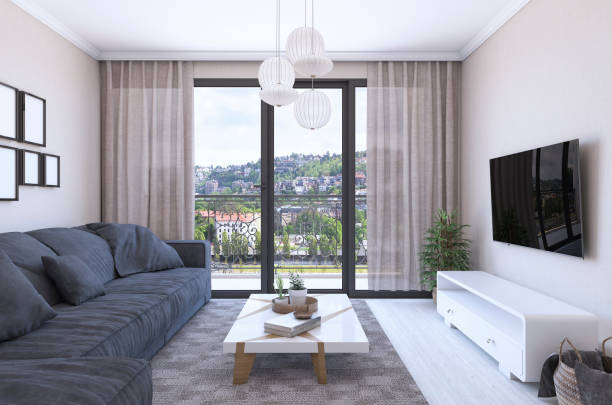TV: (488, 135, 588, 261)
TV stand: (432, 269, 599, 389)
large plant: (420, 207, 472, 295)
small plant: (288, 271, 308, 303), (269, 273, 288, 304)
sofa: (0, 220, 215, 405)
table: (222, 292, 371, 387)
wall art: (21, 91, 47, 147), (0, 81, 20, 141), (0, 142, 18, 203), (18, 146, 42, 187), (41, 152, 62, 189)
